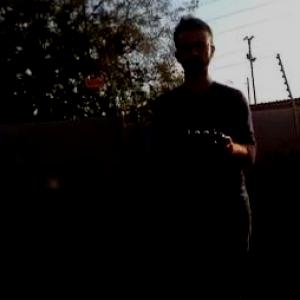follow: (148, 9, 264, 299)
